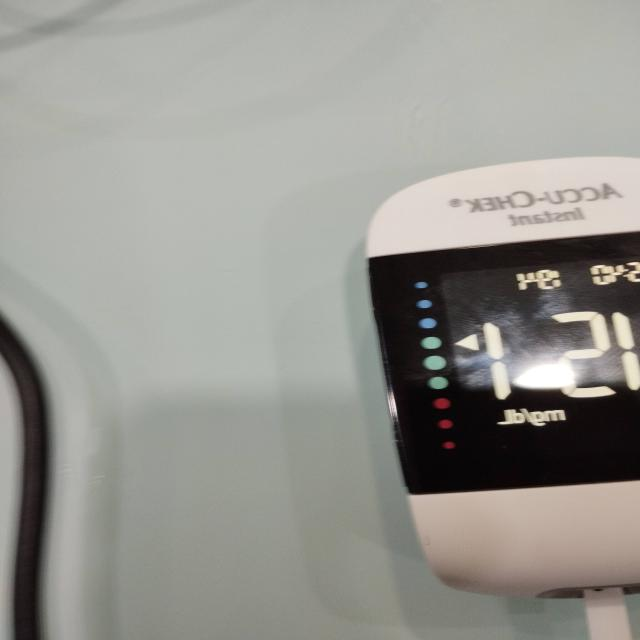gluco: (365, 157, 640, 601)
